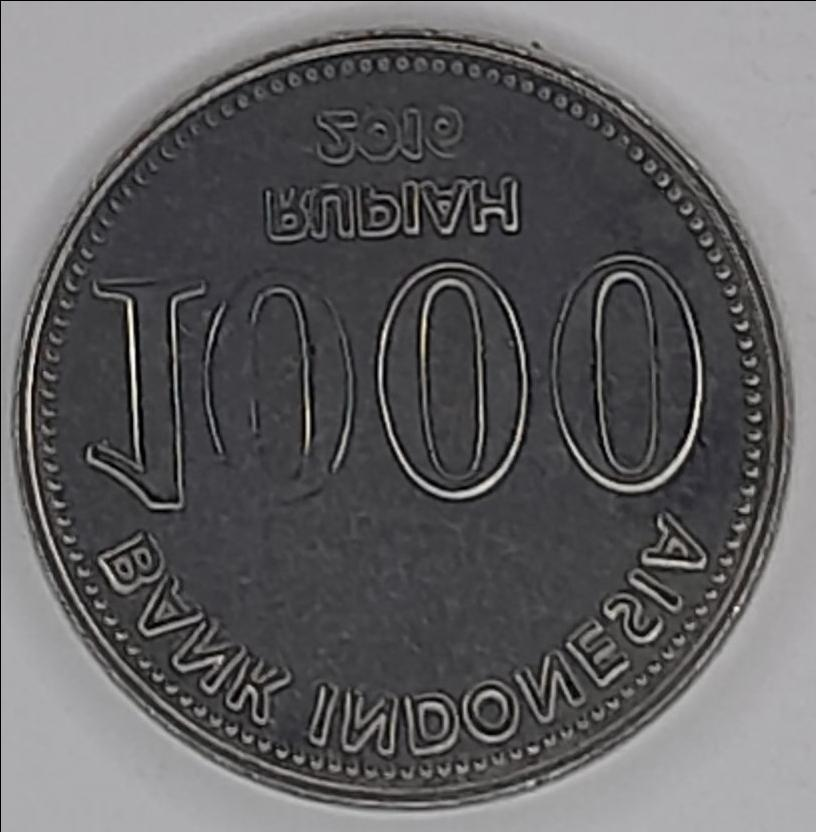coin_1000_e2016: (14, 16, 805, 832)
